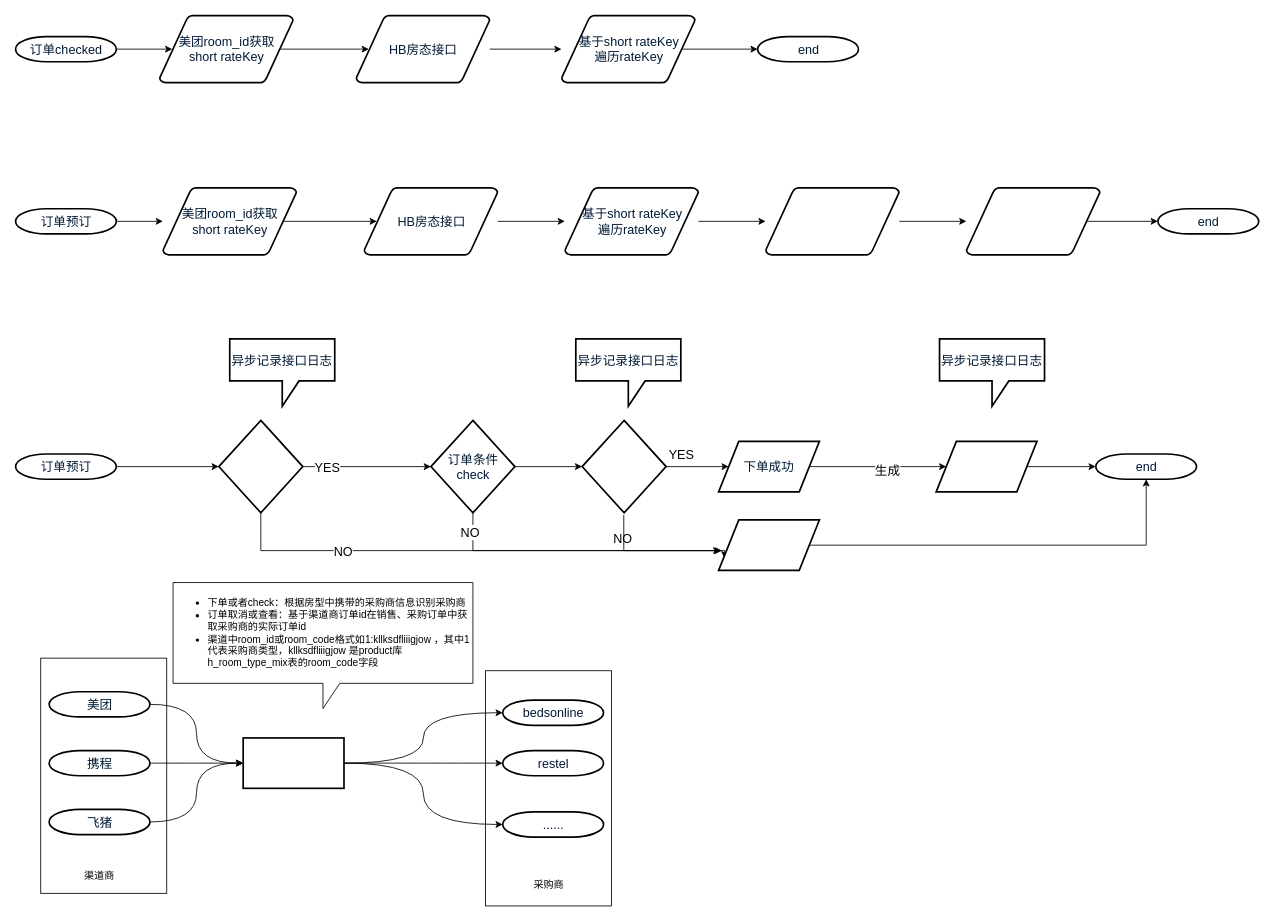
Image size: 1273x921. Some labels were removed from this diagram. The centre of each missing label's shape, as x and y in pixels:
"HB校验接口" belongs at (832,220).
"HB订单接口" belongs at (1032,220).
"XXL" belongs at (293,763).
"下单失败" belongs at (768,545).
"渠道check" belongs at (260,466).
"销售订单 采购订单" belongs at (986,466).
"预订" belongs at (624,466).
